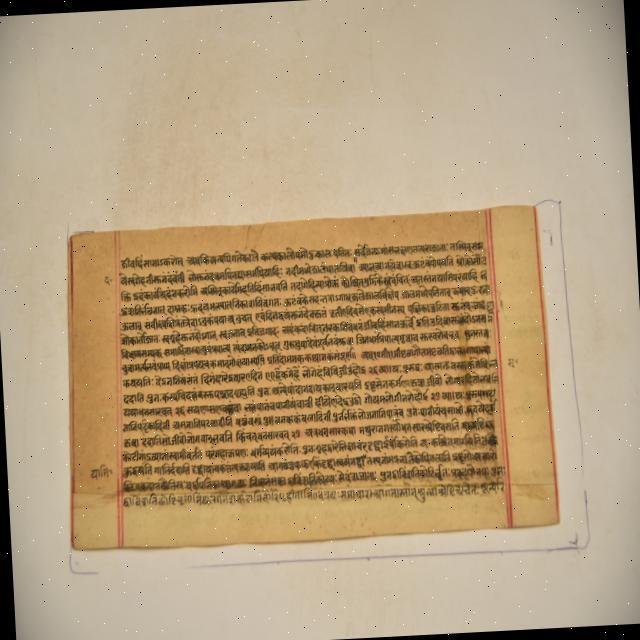text_paragraph: (67, 201, 563, 549)
